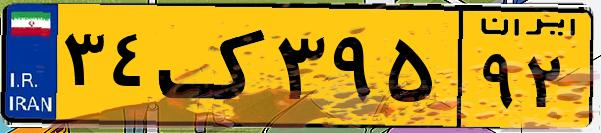2: (525, 38, 570, 115)
3: (270, 28, 330, 110), (57, 26, 110, 100)
4: (110, 28, 158, 98)
5: (385, 28, 445, 110)
9: (330, 28, 385, 110), (475, 38, 525, 113)
ک: (158, 12, 270, 120)
